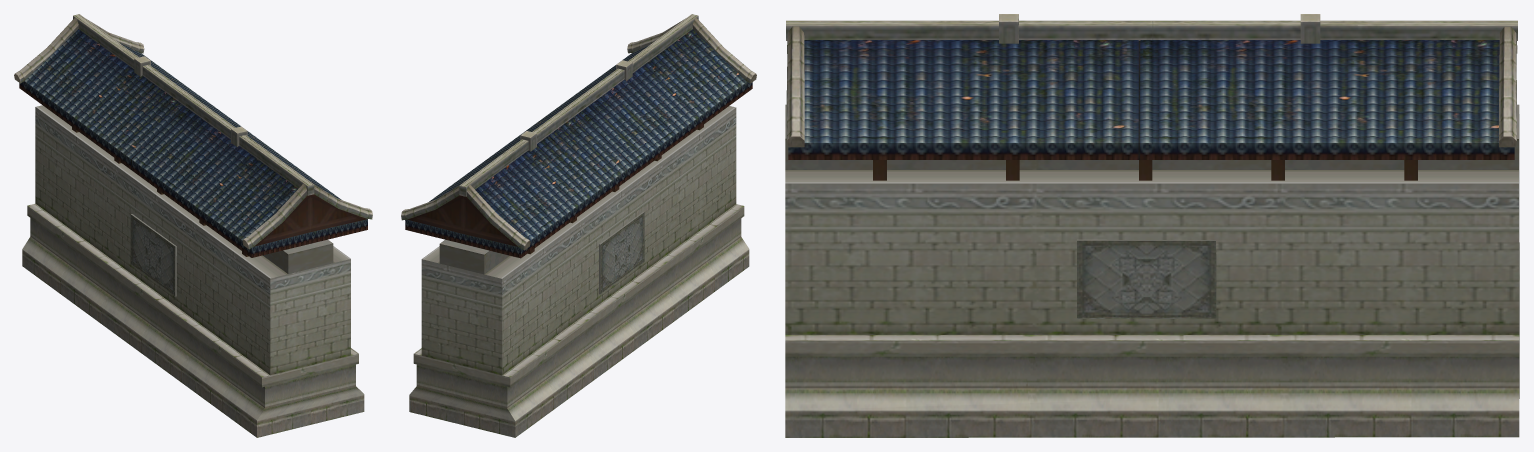
File: Youshuizhou_zhiwu_033.FBX
3 renders of one model, left to right at view 1: azimuth 30°, elevation 25°; view 2: azimuth 150°, elevation 25°; view 3: azimuth 270°, elevation 25°, orthographic. The views are drawn at different scales.
Parts seen in each view (by area): view 1: Object004; view 2: Object004; view 3: Object004.
Boxes of the visible parts, x1,y1,x2,y2 form: Object004: (14,14,372,437); Object004: (401,14,756,437); Object004: (785,14,1519,437).
Size of the model in its own units: 80.48 by 147 by 259.
